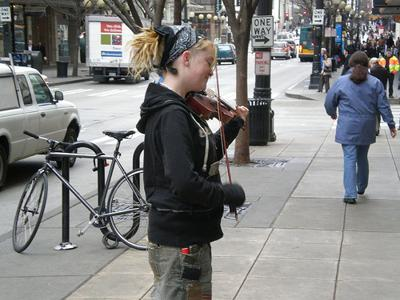person: (132, 22, 250, 299)
